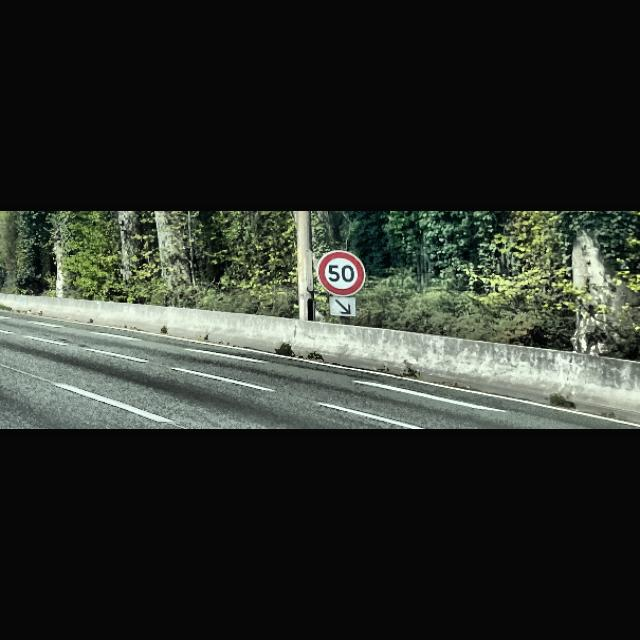speed_50: (317, 248, 367, 298)
